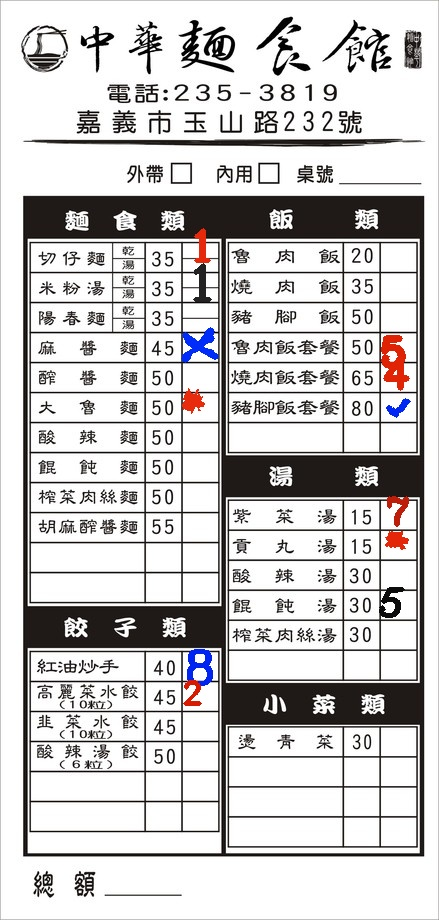marked_circle: (380, 531, 416, 560), (181, 392, 217, 421)
marked_number_1: (183, 273, 217, 286), (183, 244, 217, 257)
marked_number_2: (181, 681, 217, 710)
marked_number_4: (381, 360, 417, 389)
marked_number_5: (380, 589, 416, 618), (378, 332, 414, 361)
marked_number_7: (381, 500, 417, 529)
marked_number_8: (182, 651, 218, 680)
marked_tick: (381, 393, 417, 422)
marked_x: (182, 332, 218, 361)
